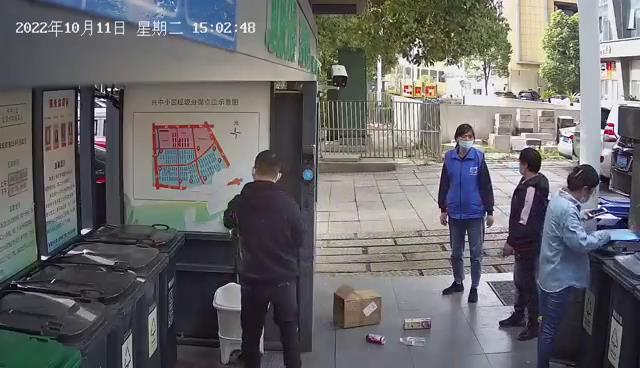lvzhipin: (362, 330, 389, 347)
person: (220, 145, 310, 368), (495, 144, 552, 342)
suliaozhipin: (397, 333, 429, 349)
worker: (533, 161, 624, 368), (432, 122, 497, 309)
zhizhipin: (332, 281, 385, 330), (401, 316, 435, 332)
